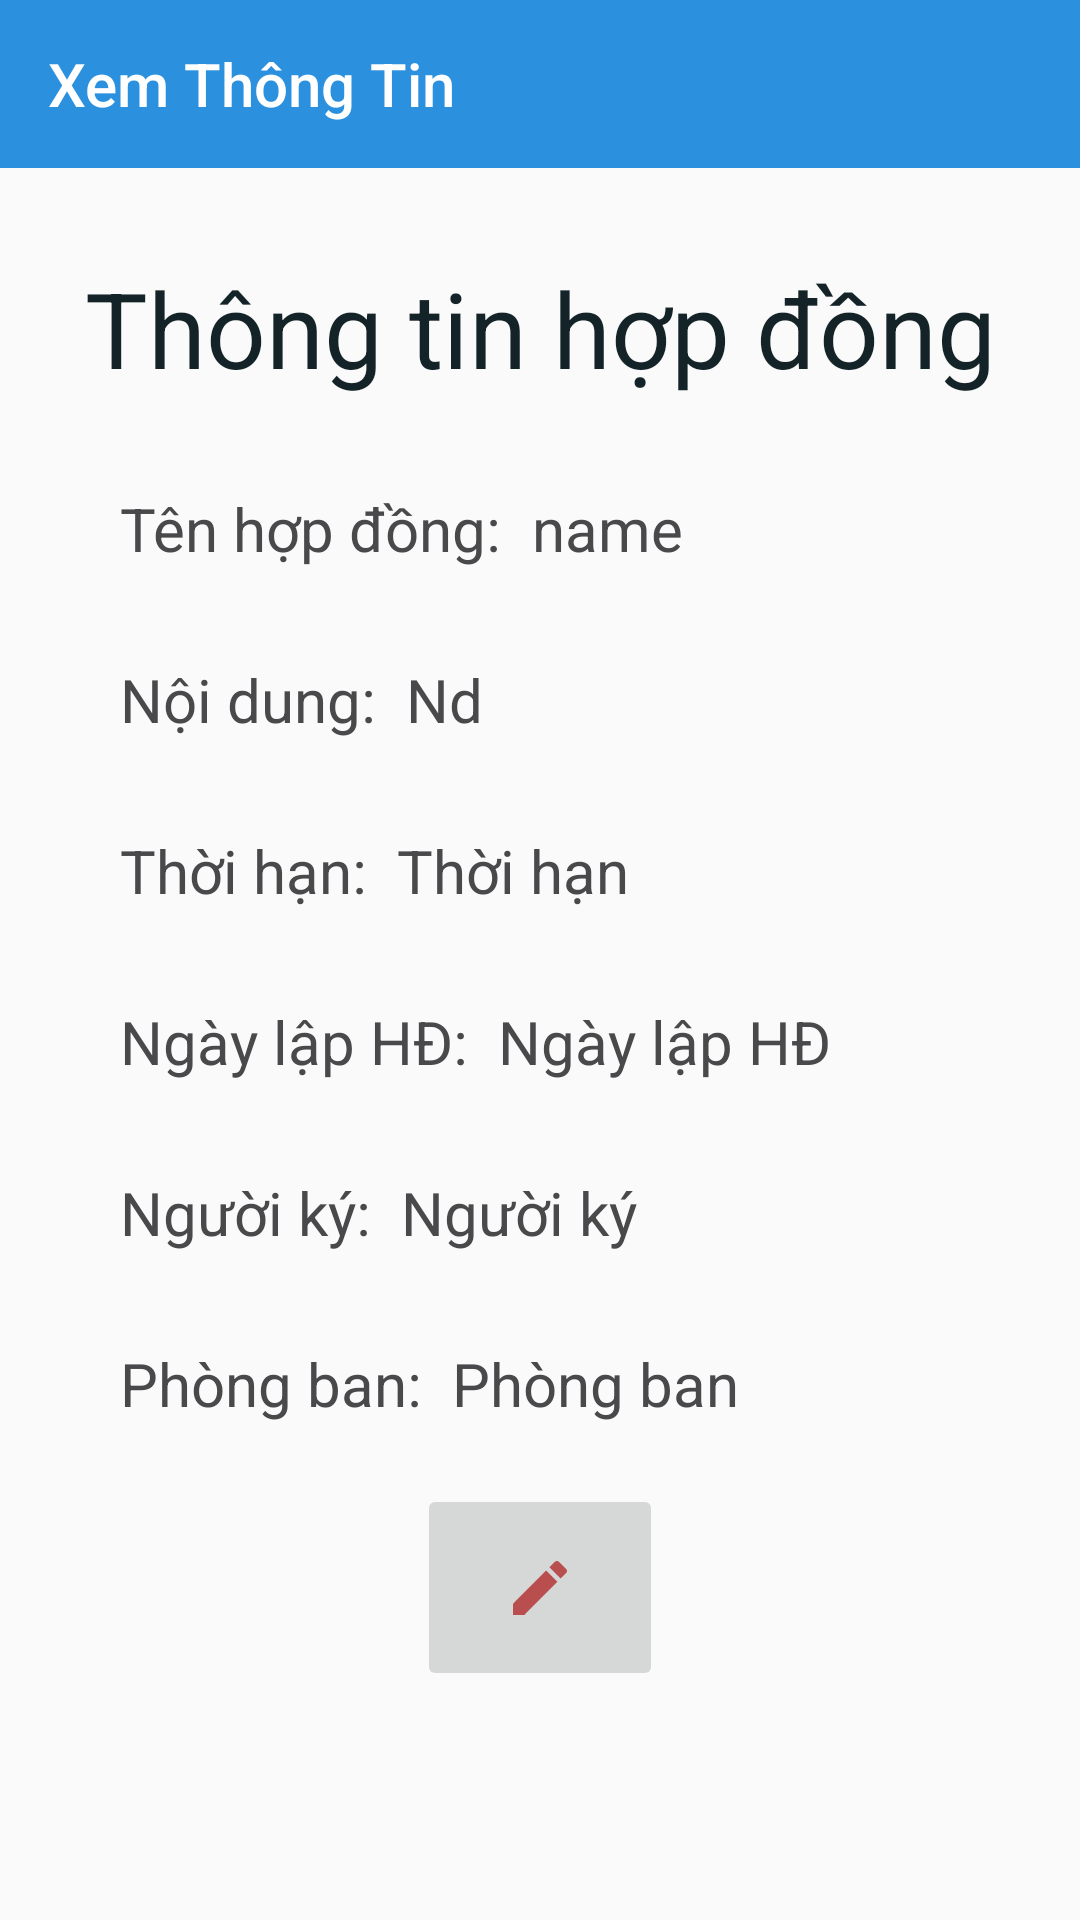

Named icons in this screenshot (1080x1920) and their bounding boxes, (x1,y1,x2,y2):
edit: (429,1502,651,1673)
